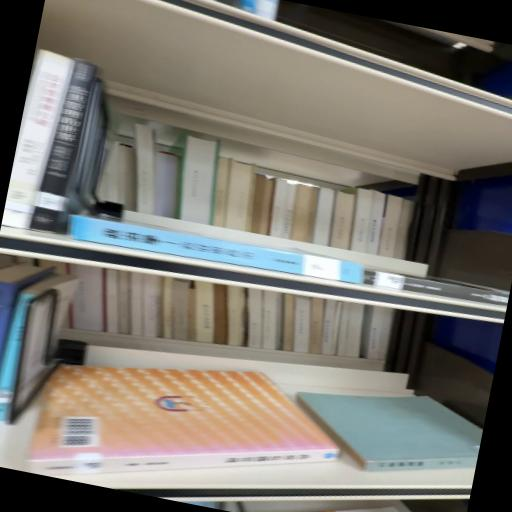flat: (29, 367, 339, 478), (69, 216, 365, 285), (297, 393, 484, 473)
